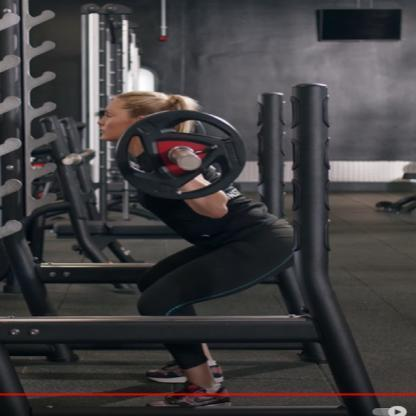barbell: (114, 107, 249, 204)
